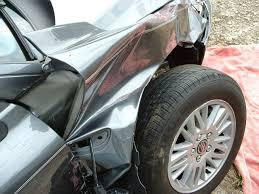fender-dent: (72, 8, 215, 113)
